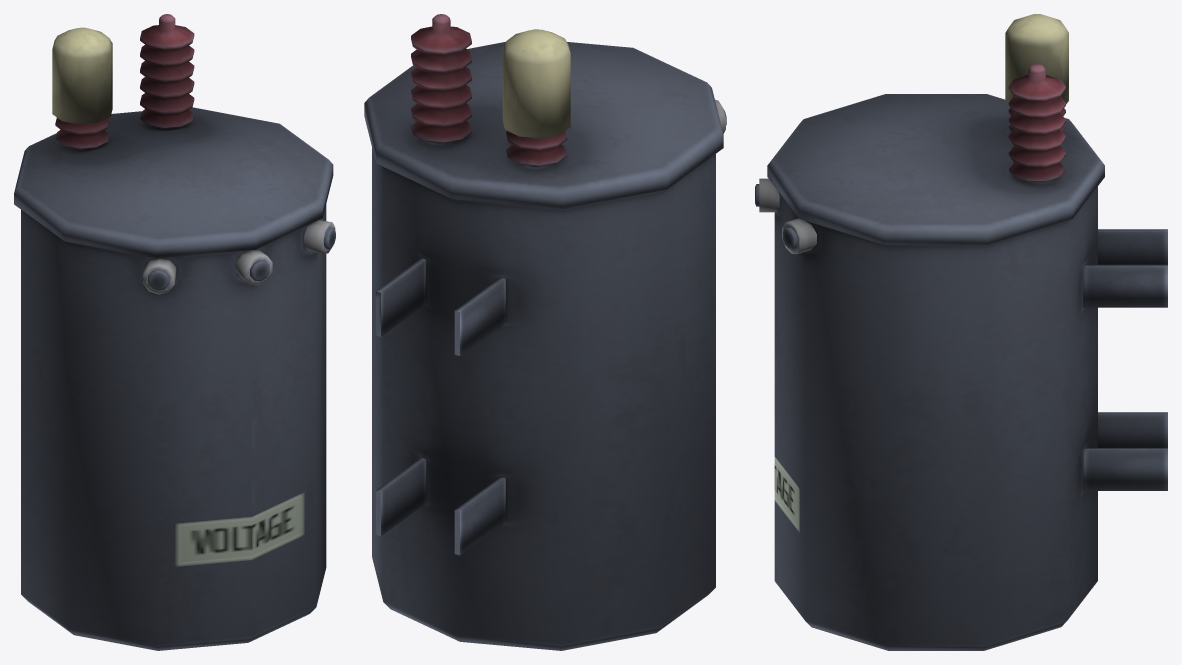
The model's file is prop_transformer.glb.
3 renders of one model, left to right at view 1: azimuth 30°, elevation 25°; view 2: azimuth 150°, elevation 25°; view 3: azimuth 270°, elevation 25°, orthographic. The views are drawn at different scales.
Visible parts, largest first — view 1: prop_transformer; view 2: prop_transformer; view 3: prop_transformer.
Part boxes in pixels (left/top/right/bottom): prop_transformer: left=14, top=14, right=335, bottom=650; prop_transformer: left=364, top=14, right=726, bottom=650; prop_transformer: left=755, top=14, right=1167, bottom=650.
Bounding box in the file's own units: 0.6358 × 1.2 × 0.8172.
1 material, 1 textured.
